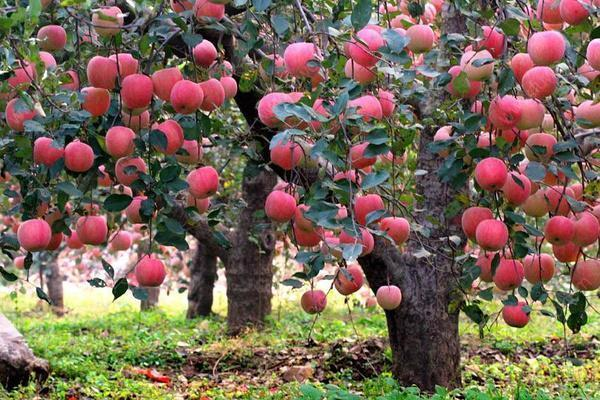apple: (281, 41, 325, 83), (527, 31, 565, 63), (121, 74, 153, 112), (15, 217, 50, 251), (257, 92, 293, 123), (264, 189, 296, 223), (347, 94, 380, 126), (489, 96, 522, 128), (87, 56, 118, 90), (569, 257, 600, 291), (349, 31, 383, 62), (521, 66, 556, 96), (186, 167, 219, 198), (65, 140, 96, 173), (475, 219, 508, 250), (494, 259, 527, 290), (460, 50, 494, 79), (270, 140, 304, 169), (475, 157, 506, 188), (133, 256, 165, 286), (172, 81, 201, 114), (546, 215, 574, 248), (353, 194, 383, 224), (333, 267, 363, 297), (525, 132, 556, 161), (378, 215, 409, 244), (151, 67, 181, 96), (35, 23, 66, 50), (77, 217, 106, 245), (405, 24, 434, 52), (524, 255, 553, 283), (106, 127, 135, 155), (462, 206, 490, 234), (33, 138, 62, 165), (517, 99, 543, 129), (503, 172, 529, 201), (576, 211, 597, 246), (110, 53, 137, 80), (545, 187, 573, 212), (200, 80, 224, 109), (501, 302, 528, 327), (376, 286, 401, 311), (301, 288, 326, 313), (561, 1, 588, 23), (193, 41, 216, 64)
